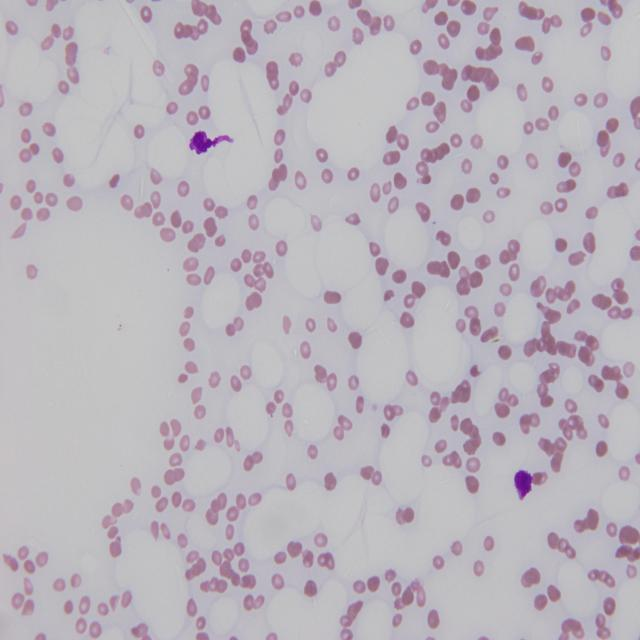cell: (189, 131, 234, 155), (514, 470, 532, 499)
